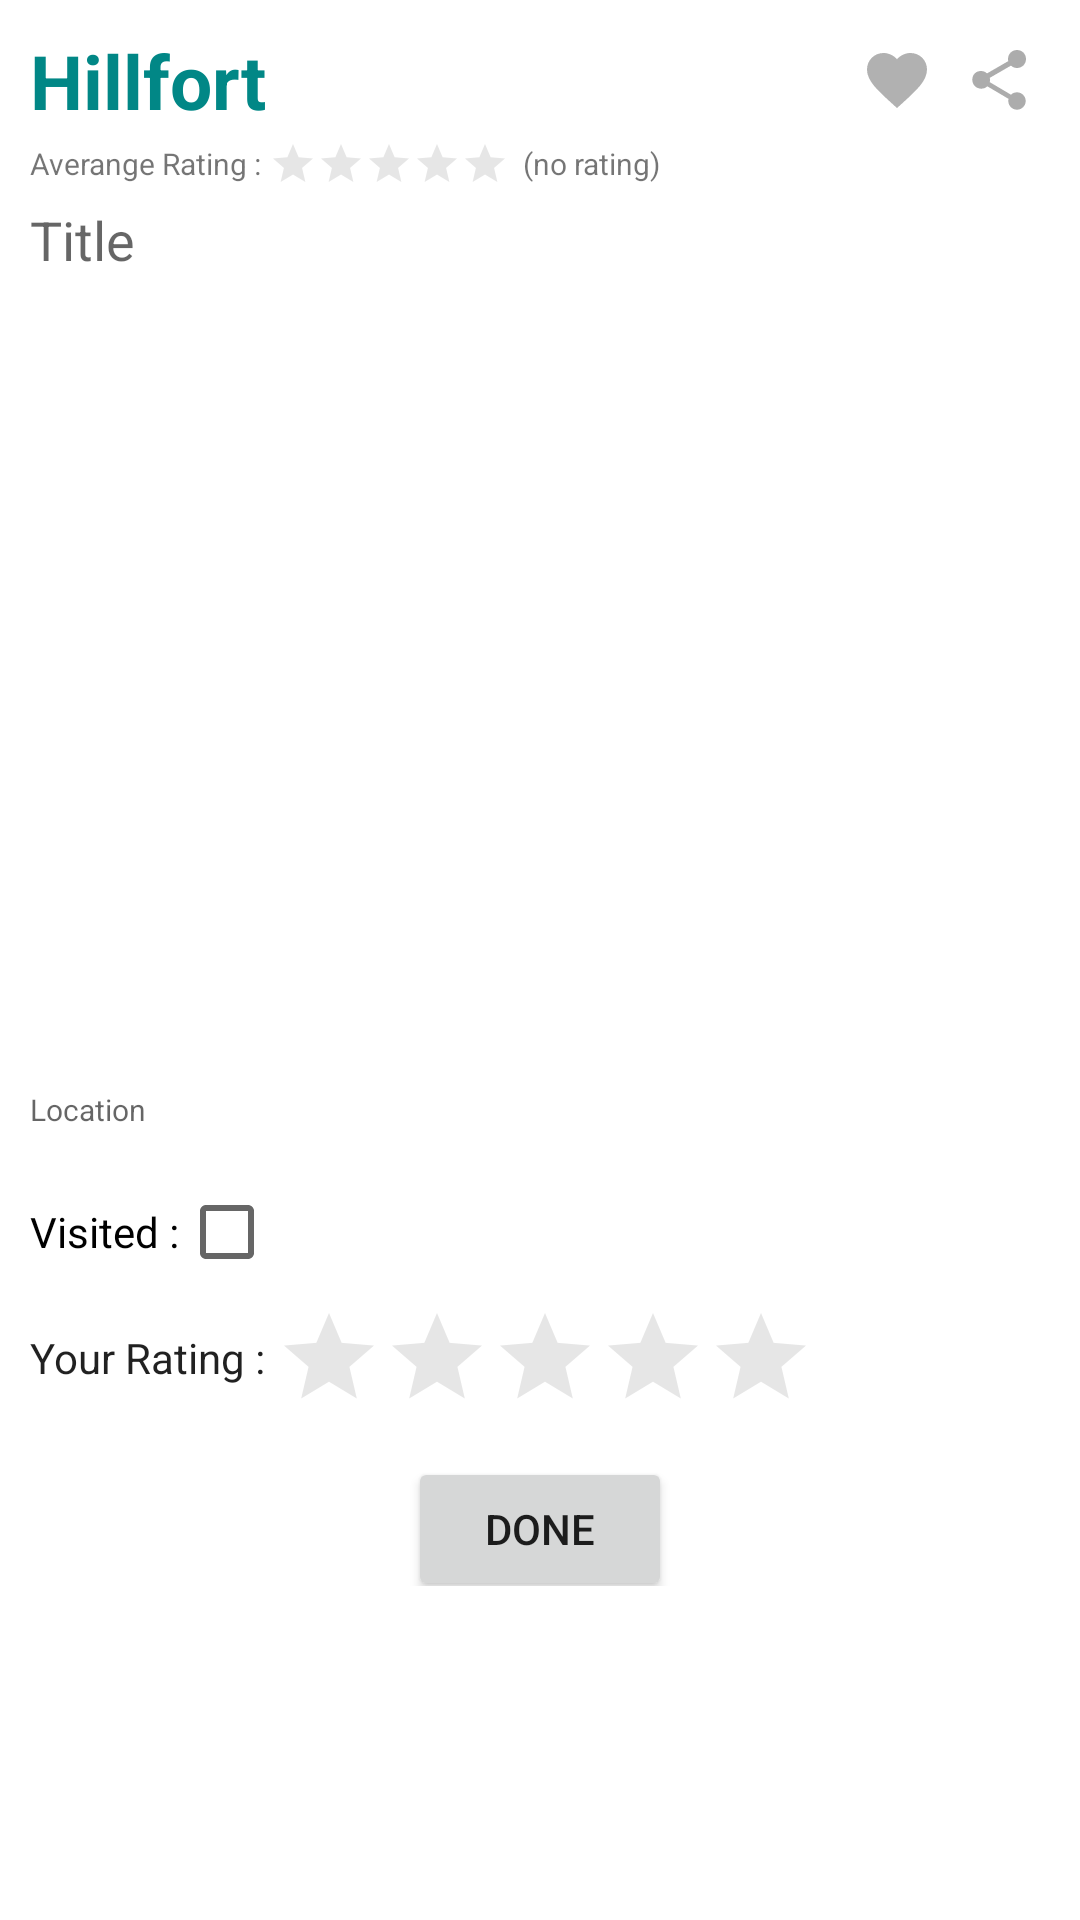

Icon bounding boxes for this 1080px×1920px phone screenshot, format bbox(x1, y1, x2, y2):
favorite: bbox(867, 53, 927, 108)
